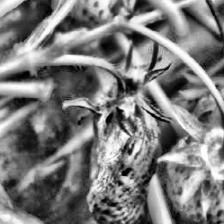Gray Mold: (62, 38, 176, 224)
